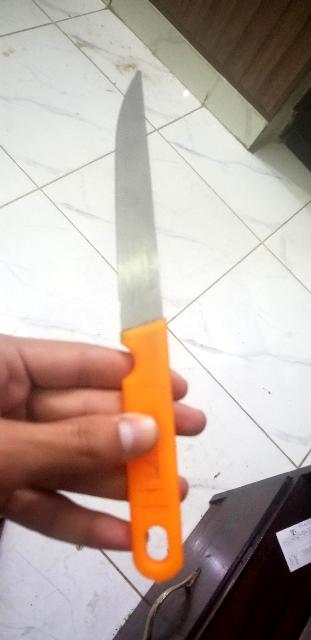long knife: (101, 62, 187, 580)
